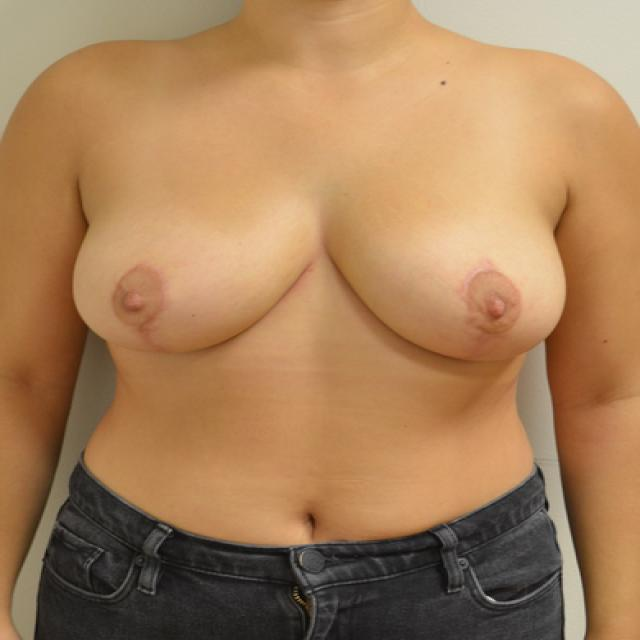Seno herido: (67, 164, 321, 382), (328, 164, 571, 382)
